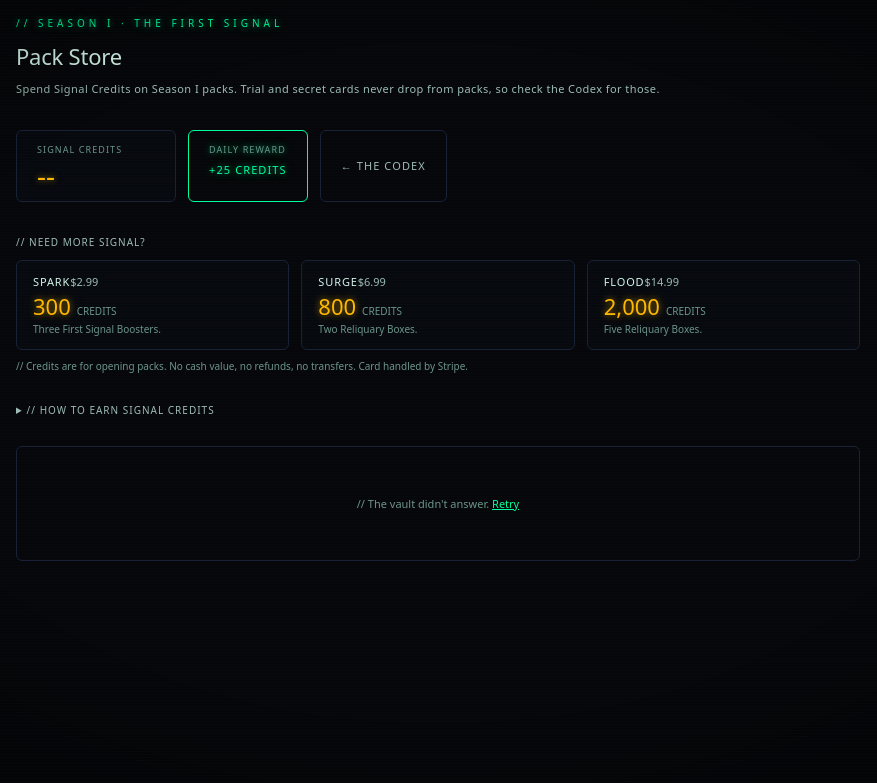
PackStorePage store states › shows an error with a Retry control when both attempts fail, and Retry recovers
The width and height of the screenshot is (877, 783).
Expected: the message shows "The vault didn't answer", [357, 496, 492, 511]
What coordinates should you click on to do the following:
click the button "Retry"
I would click on:
 (506, 504)
Its box is [492, 495, 519, 512].
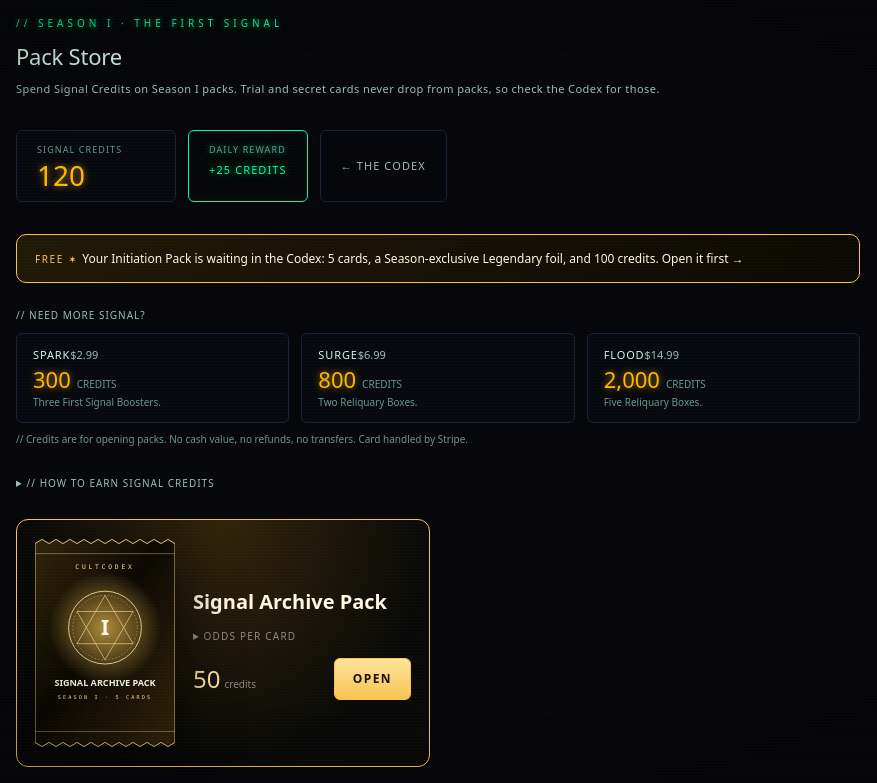
Expected: the text "Signal Archive Pack" is shown, [193, 586, 411, 618]
